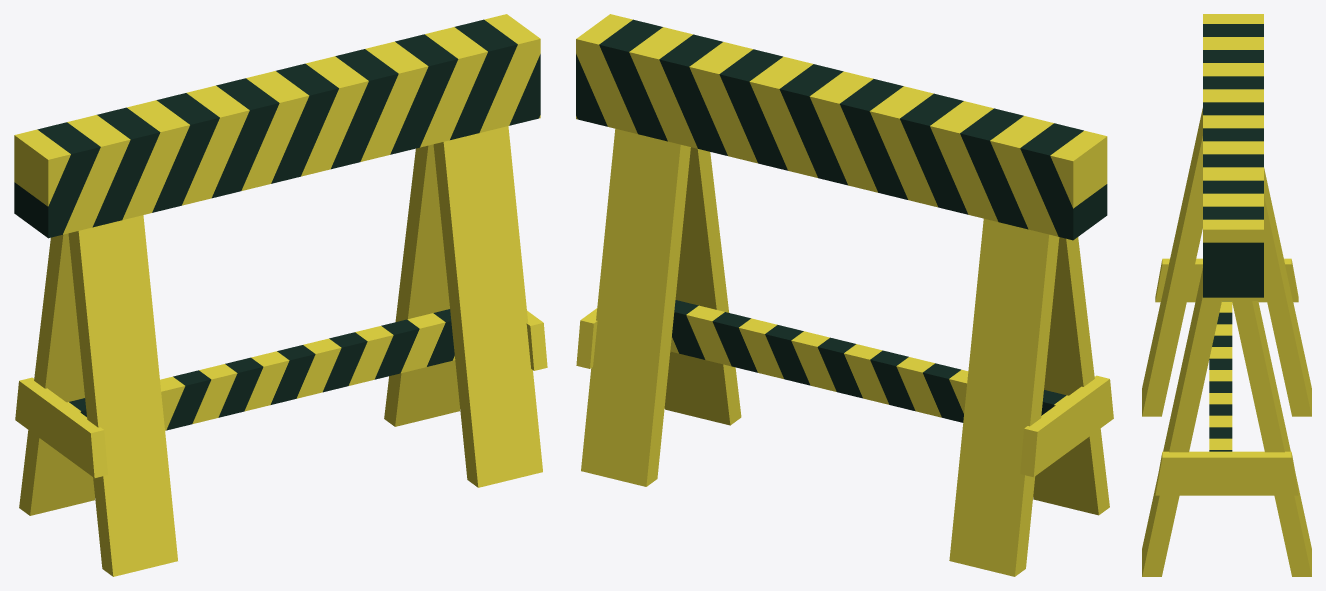
The model's file is sar_engel.fbx.
The picture shows the model from 3 angles, left to right: view 1: azimuth 30°, elevation 25°; view 2: azimuth 150°, elevation 25°; view 3: azimuth 270°, elevation 25°; orthographic projection. The views are drawn at different scales.
Visible parts, largest first — view 1: Cube, Cube.013, Cube.014; view 2: Cube, Cube.013, Cube.014; view 3: Cube, Cube.013, Cube.014.
Part boxes in pixels (x1,y1,x2,y2): Cube: (15, 126, 547, 576); Cube.013: (14, 14, 540, 238); Cube.014: (67, 309, 455, 430); Cube: (576, 128, 1113, 576); Cube.013: (576, 14, 1107, 240); Cube.014: (670, 300, 1068, 422); Cube: (1142, 108, 1311, 576); Cube.013: (1203, 14, 1263, 300); Cube.014: (1209, 301, 1232, 451).
Bounding box in the file's own units: 55.27 × 42.99 × 18.31.
